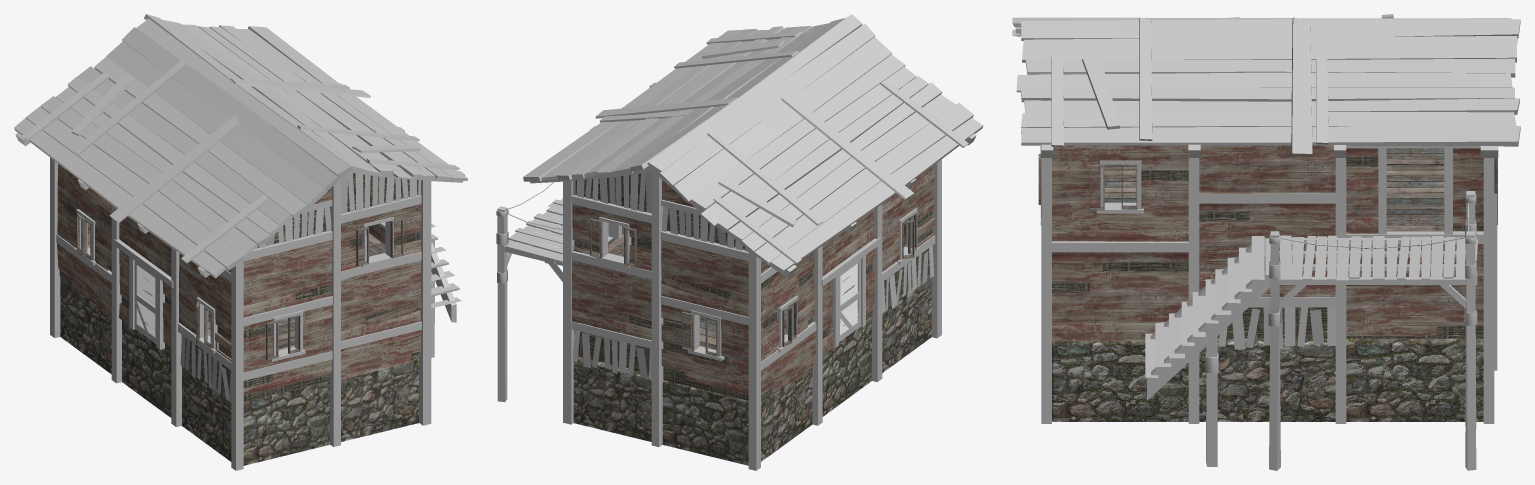
Rendered from House10_LOD1.fbx.
3 views of the same model, side by side, from view 1: azimuth 30°, elevation 25°; view 2: azimuth 150°, elevation 25°; view 3: azimuth 270°, elevation 25° (orthographic). The views are drawn at different scales.
Visible parts, largest first — view 1: Roof, Base, Floor, Windows, Doors, Stairs; view 2: Roof, Base, Floor, Stairs, Windows, Doors; view 3: Base, Roof, Floor, Stairs, Windows.
Part boxes in pixels (bbox=[...]): Roof: bbox=[14, 14, 467, 278]; Base: bbox=[50, 144, 431, 470]; Floor: bbox=[60, 277, 418, 465]; Windows: bbox=[74, 209, 403, 361]; Doors: bbox=[134, 261, 156, 343]; Stairs: bbox=[431, 223, 461, 357]; Roof: bbox=[523, 14, 983, 278]; Base: bbox=[563, 145, 941, 470]; Floor: bbox=[573, 275, 931, 465]; Stairs: bbox=[496, 182, 608, 402]; Windows: bbox=[590, 208, 919, 360]; Doors: bbox=[839, 259, 860, 341]; Base: bbox=[1041, 145, 1497, 423]; Roof: bbox=[1012, 14, 1520, 157]; Floor: bbox=[1052, 338, 1483, 421]; Stairs: bbox=[1145, 191, 1477, 470]; Windows: bbox=[1038, 146, 1497, 225].
Bounding box in the file's own units: 10.72 × 9.37 × 12.16.
